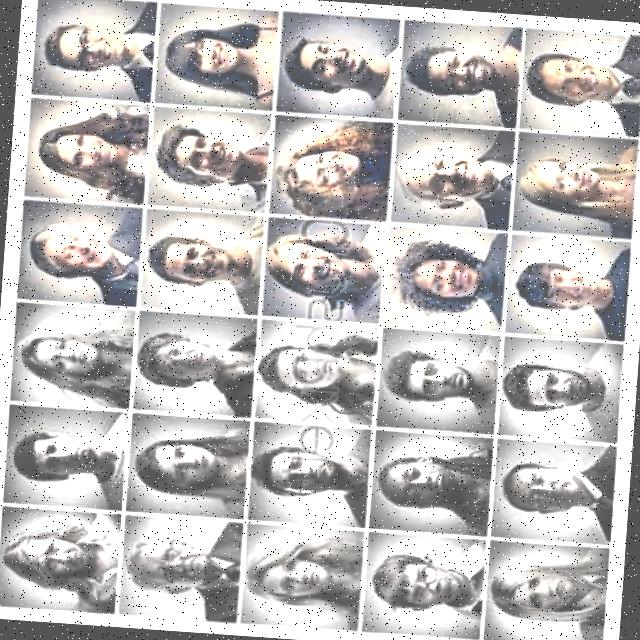happy: (508, 129, 640, 242), (497, 229, 630, 341), (275, 9, 406, 118), (520, 21, 640, 139), (398, 13, 518, 130), (22, 197, 150, 306), (270, 111, 397, 220), (261, 211, 384, 323), (25, 100, 153, 206), (143, 205, 262, 319), (146, 103, 271, 211)
sad: (238, 524, 368, 638), (354, 533, 490, 640), (497, 335, 627, 446), (7, 299, 140, 404), (0, 508, 122, 620), (251, 315, 374, 426), (122, 518, 247, 627), (486, 439, 616, 543), (1, 408, 131, 511), (373, 328, 500, 431), (132, 314, 258, 417), (126, 415, 253, 516), (253, 423, 377, 524), (487, 543, 603, 640)
